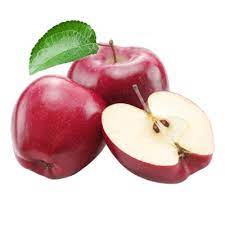apple: (99, 83, 217, 186)
